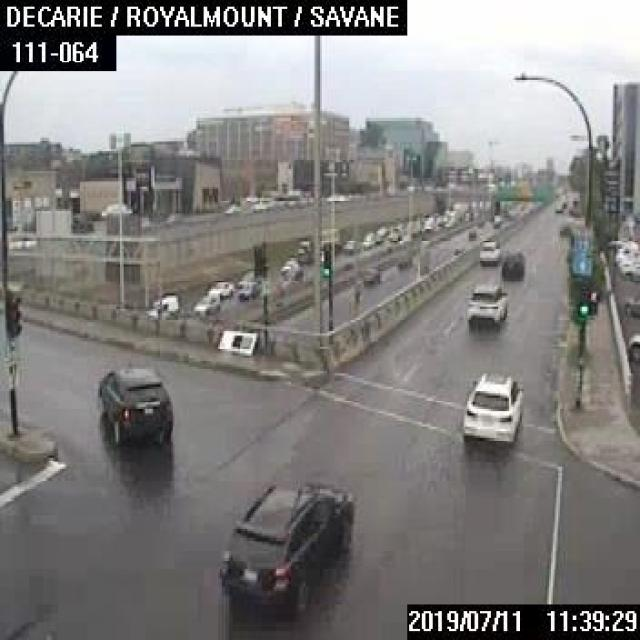vehicle: (216, 473, 356, 618), (94, 362, 174, 447), (460, 367, 524, 449), (464, 284, 506, 327), (147, 291, 180, 316), (500, 248, 523, 278), (189, 294, 218, 314), (479, 235, 499, 262), (205, 278, 233, 296), (236, 279, 261, 298), (358, 264, 380, 284), (625, 330, 638, 359), (282, 263, 304, 280), (238, 268, 260, 282), (279, 256, 296, 272), (624, 297, 638, 314), (342, 234, 353, 254), (360, 232, 371, 246), (374, 224, 387, 234)
